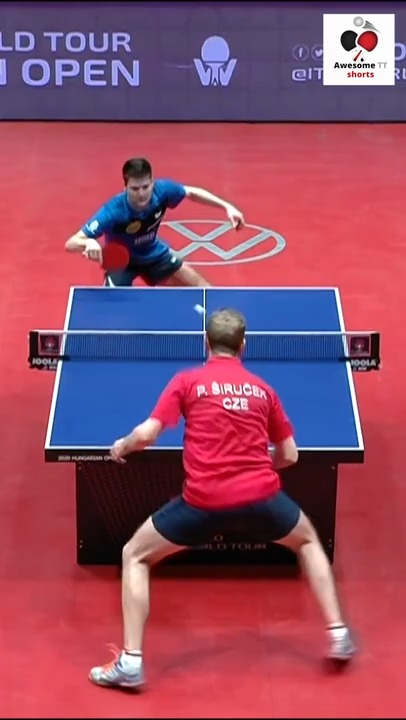Ball: (196, 301, 209, 318)
